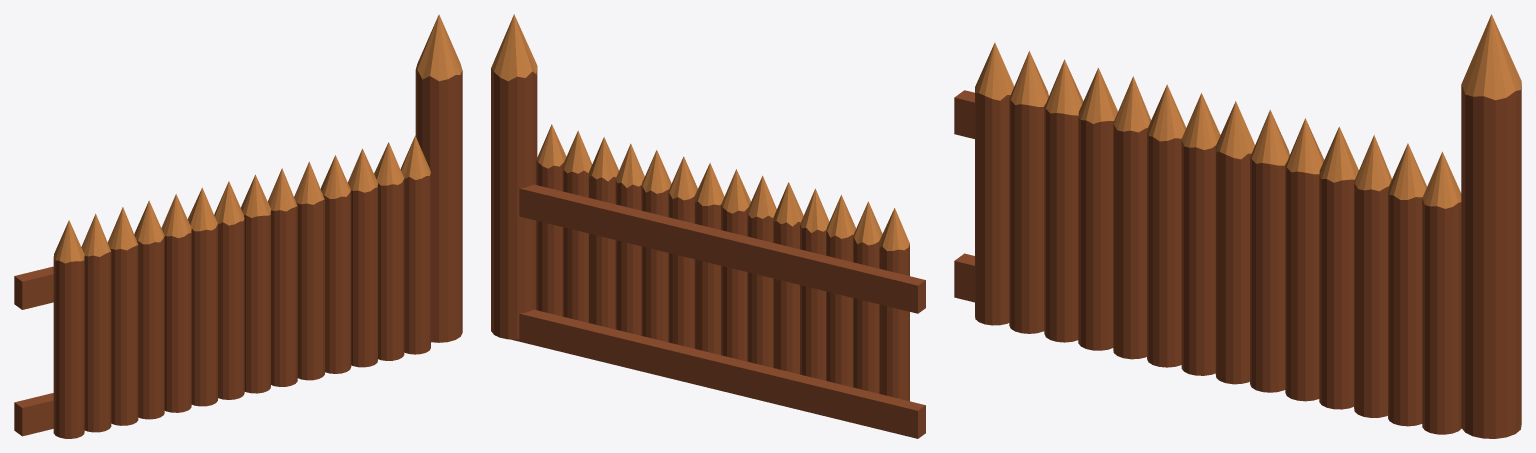
Rendered from wooden_fence.fbx.
3 views of the same model, side by side, from view 1: azimuth 30°, elevation 25°; view 2: azimuth 150°, elevation 25°; view 3: azimuth 330°, elevation 25° (orthographic). The views are drawn at different scales.
Visible parts, largest first — view 1: Cylinder.001; view 2: Cylinder.001; view 3: Cylinder.001.
Boxes of the visible parts, x1,y1,x2,y2 form: Cylinder.001: (14, 14, 462, 438); Cylinder.001: (491, 14, 925, 438); Cylinder.001: (954, 14, 1521, 438).
Size of the model in its own units: 644 by 453 by 67.97.
